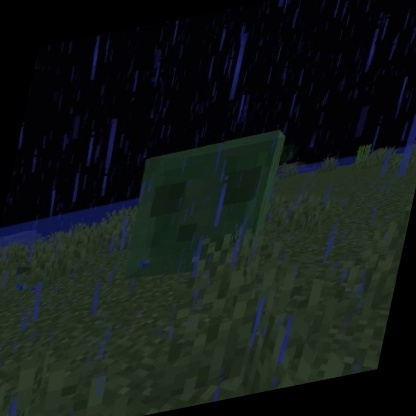slime: (111, 121, 294, 290)
